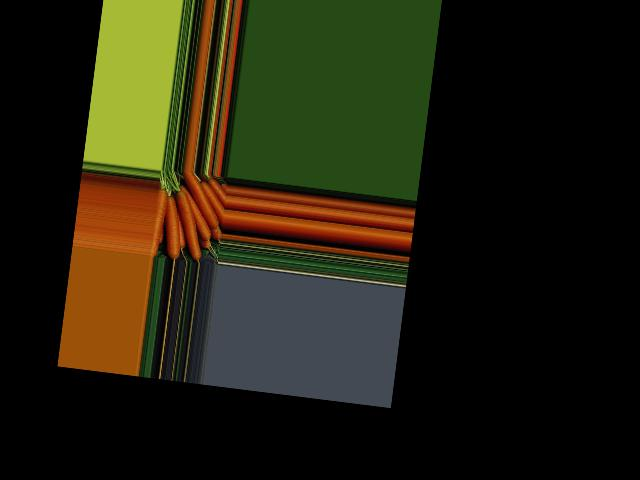carrot: (176, 171, 226, 230)
